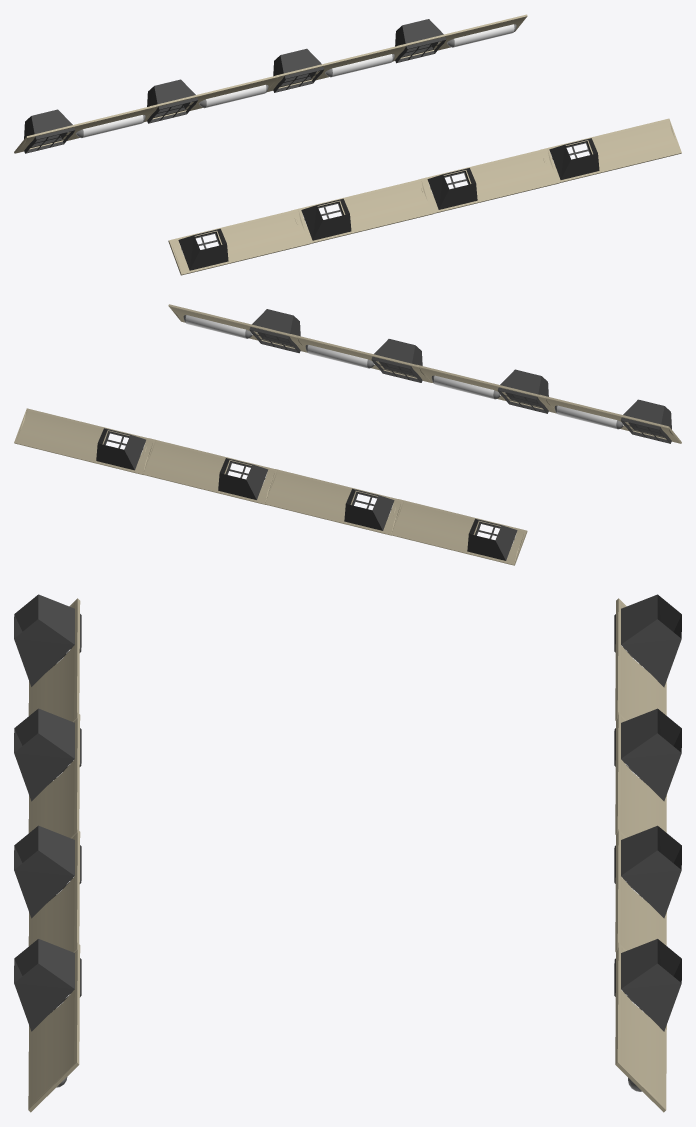
The model's file is Col_Lamp_strip.FBX.
The picture shows the model from 3 angles, top to bottom: view 1: azimuth 30°, elevation 25°; view 2: azimuth 150°, elevation 25°; view 3: azimuth 270°, elevation 25°; orthographic projection. The views are drawn at different scales.
Visible parts, largest first — view 1: Lamp_mount5, Lamp_mount7, Lamp_mount6, Lamp_mount8, Lamp_mount4, Lamp_mount2, Lamp_mount3, Lamp_mount1, MLU1, MLU3, MLU2, MLU4; view 2: Lamp_mount1, Lamp_mount3, Lamp_mount4, Lamp_mount2, Lamp_mount8, Lamp_mount6, Lamp_mount5, Lamp_mount7, MLU7, MLU5, MLU6, MLU8; view 3: Lamp_mount1, Lamp_mount8, Lamp_mount3, Lamp_mount6, Lamp_mount4, Lamp_mount5, Lamp_mount2, Lamp_mount7.
Boxes of the visible parts, x1,y1,x2,y2 form: Lamp_mount5: [168, 209, 310, 275]; Lamp_mount7: [418, 148, 559, 213]; Lamp_mount6: [294, 179, 433, 243]; Lamp_mount8: [540, 118, 681, 182]; Lamp_mount4: [14, 105, 156, 153]; Lamp_mount2: [267, 44, 405, 92]; Lamp_mount3: [145, 75, 279, 123]; Lamp_mount1: [394, 14, 527, 63]; MLU1: [447, 24, 516, 47]; MLU3: [198, 84, 268, 108]; MLU2: [325, 54, 394, 77]; MLU4: [75, 115, 145, 137]; Lamp_mount1: [14, 408, 155, 474]; Lamp_mount3: [265, 469, 403, 535]; Lamp_mount4: [391, 499, 527, 565]; Lamp_mount2: [143, 438, 277, 504]; Lamp_mount8: [168, 304, 307, 353]; Lamp_mount6: [417, 364, 556, 413]; Lamp_mount5: [540, 394, 681, 443]; Lamp_mount7: [291, 334, 431, 382]; MLU7: [305, 344, 374, 368]; MLU5: [554, 405, 623, 429]; MLU6: [431, 375, 500, 399]; MLU8: [183, 315, 252, 338]; Lamp_mount1: [614, 939, 681, 1112]; Lamp_mount8: [14, 939, 81, 1112]; Lamp_mount3: [614, 708, 681, 837]; Lamp_mount6: [14, 708, 81, 838]; Lamp_mount4: [614, 594, 681, 720]; Lamp_mount5: [14, 594, 81, 722]; Lamp_mount2: [614, 825, 681, 951]; Lamp_mount7: [14, 825, 81, 952].
Bounding box in the file's own units: 4.13 × 0.2873 × 2.51.
